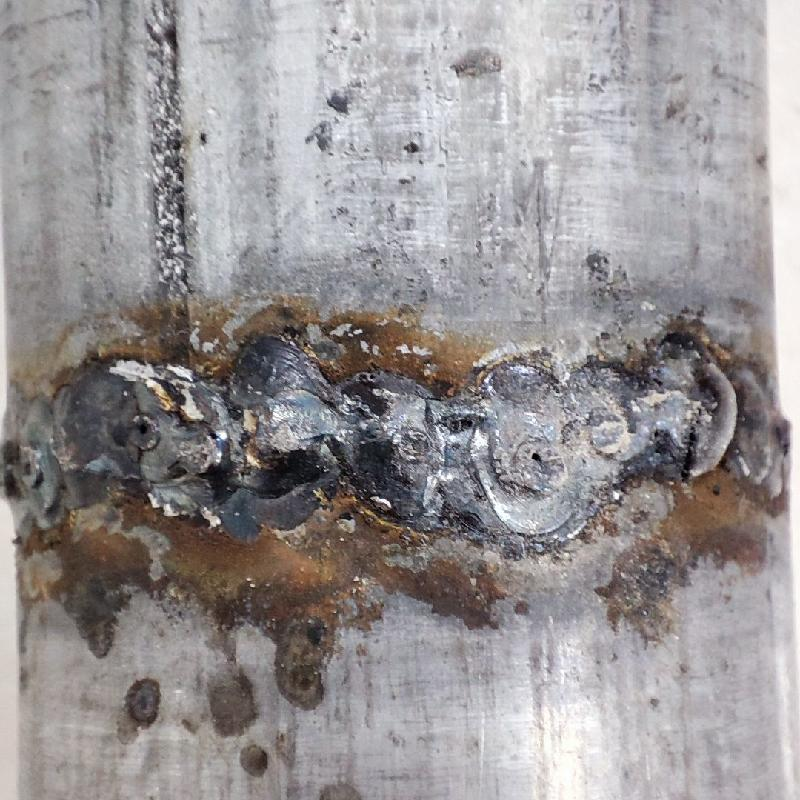Not_fully_soldered: (443, 351, 646, 545)
Surface_pores: (511, 441, 565, 486), (122, 411, 172, 453)
